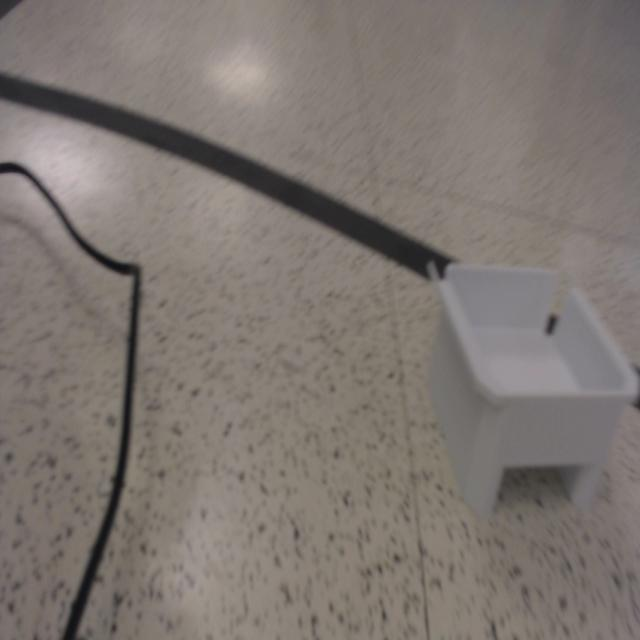wbox: (423, 253, 638, 520)
